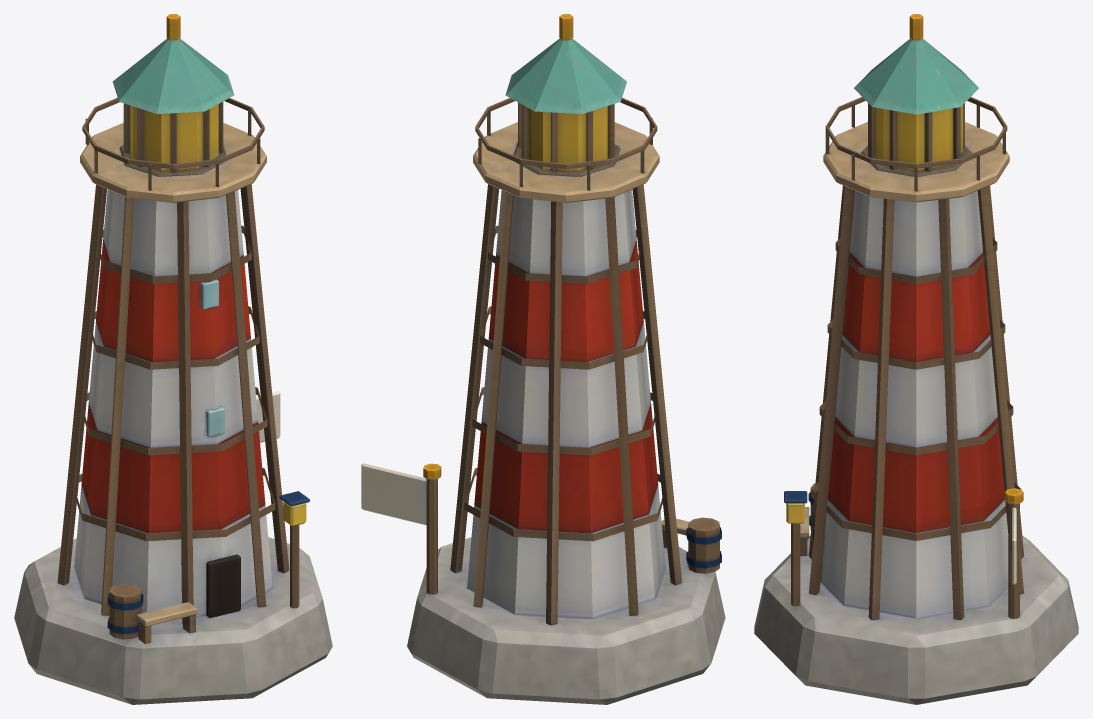
File: lighthouse-5.glb
3 views of the same model, side by side, from view 1: azimuth 30°, elevation 25°; view 2: azimuth 150°, elevation 25°; view 3: azimuth 270°, elevation 25° (orthographic).
Visible parts, largest first — view 1: lighthouse-5; view 2: lighthouse-5; view 3: lighthouse-5.
Boxes of the visible parts, left/top/right/bottom form: lighthouse-5: left=14, top=14, right=332, bottom=704; lighthouse-5: left=361, top=14, right=725, bottom=704; lighthouse-5: left=754, top=14, right=1078, bottom=704.
Size of the model in its own units: 1.47 by 2.95 by 1.39.
1 material, 1 textured.
